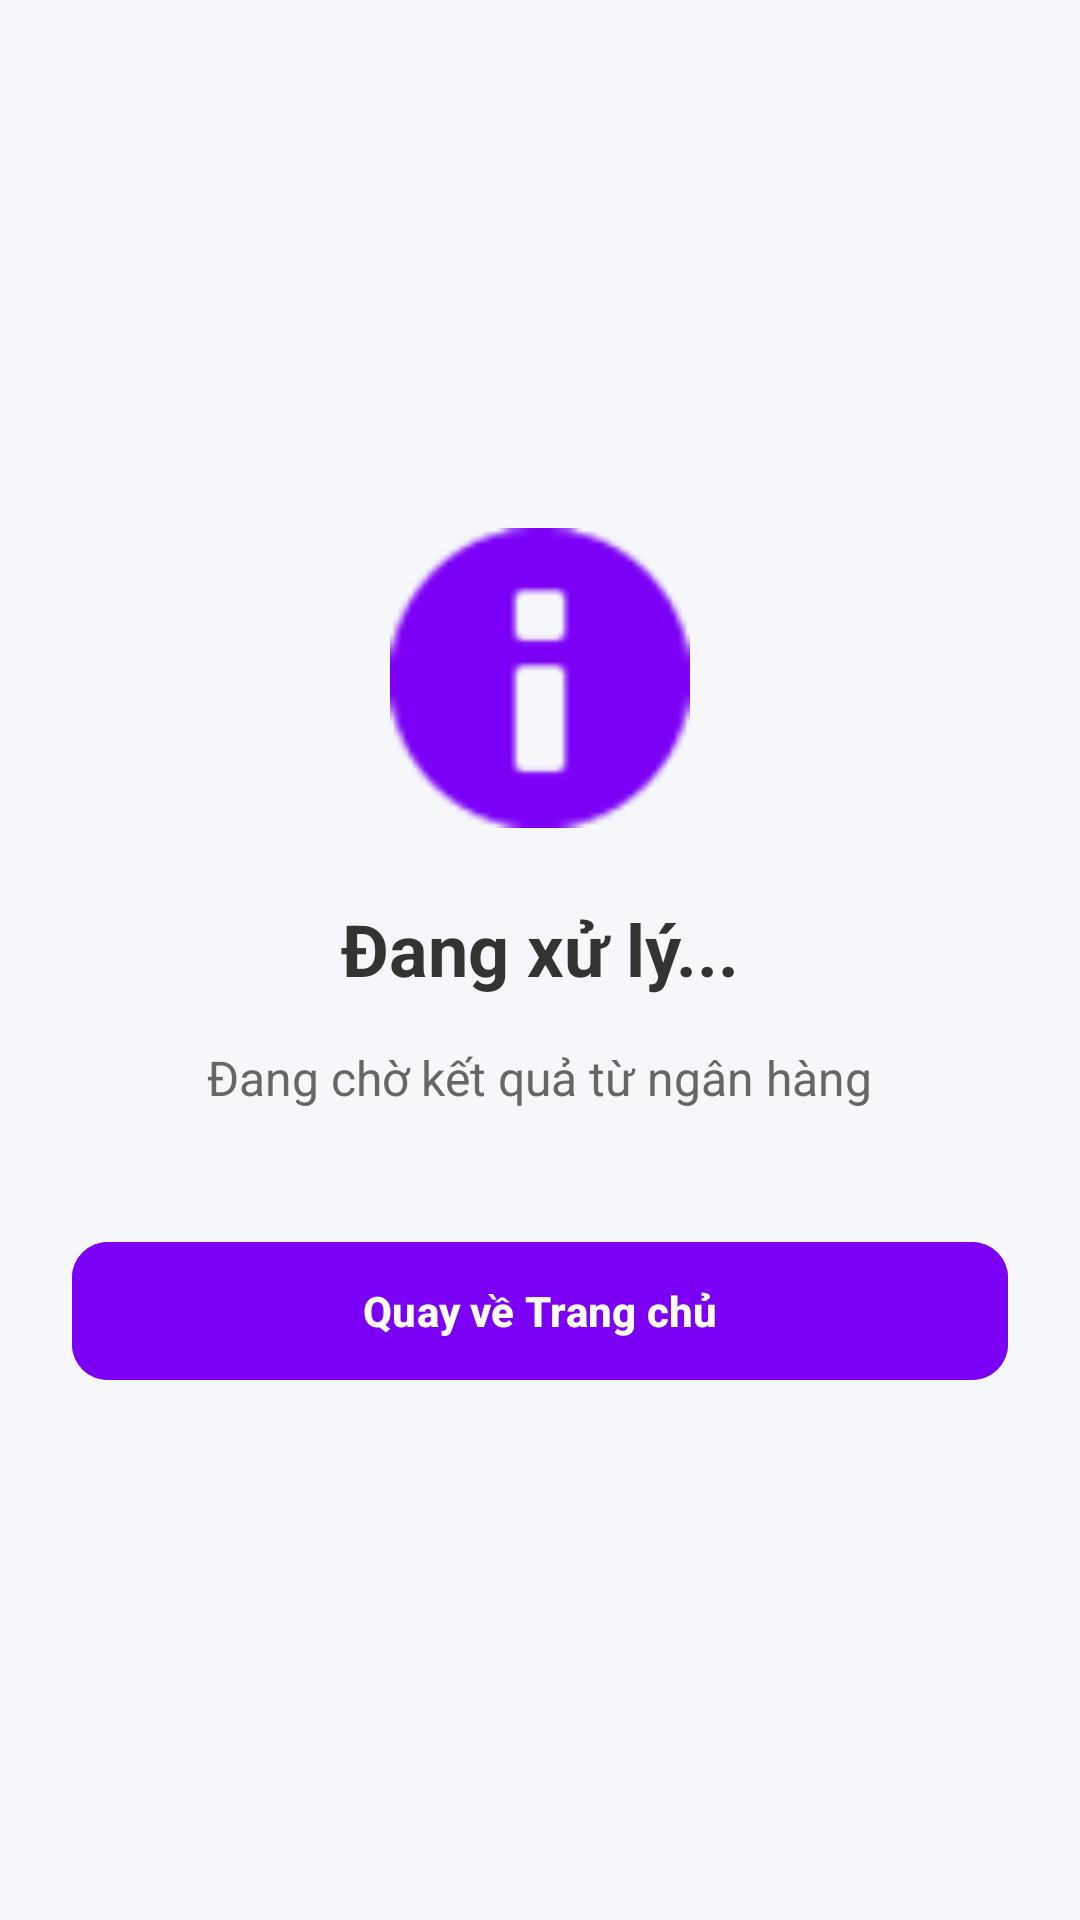

Icons on this 1080 x 1920 Android screen, each with the point to tap as (x=x, y=y):
info: (x=540, y=678)
